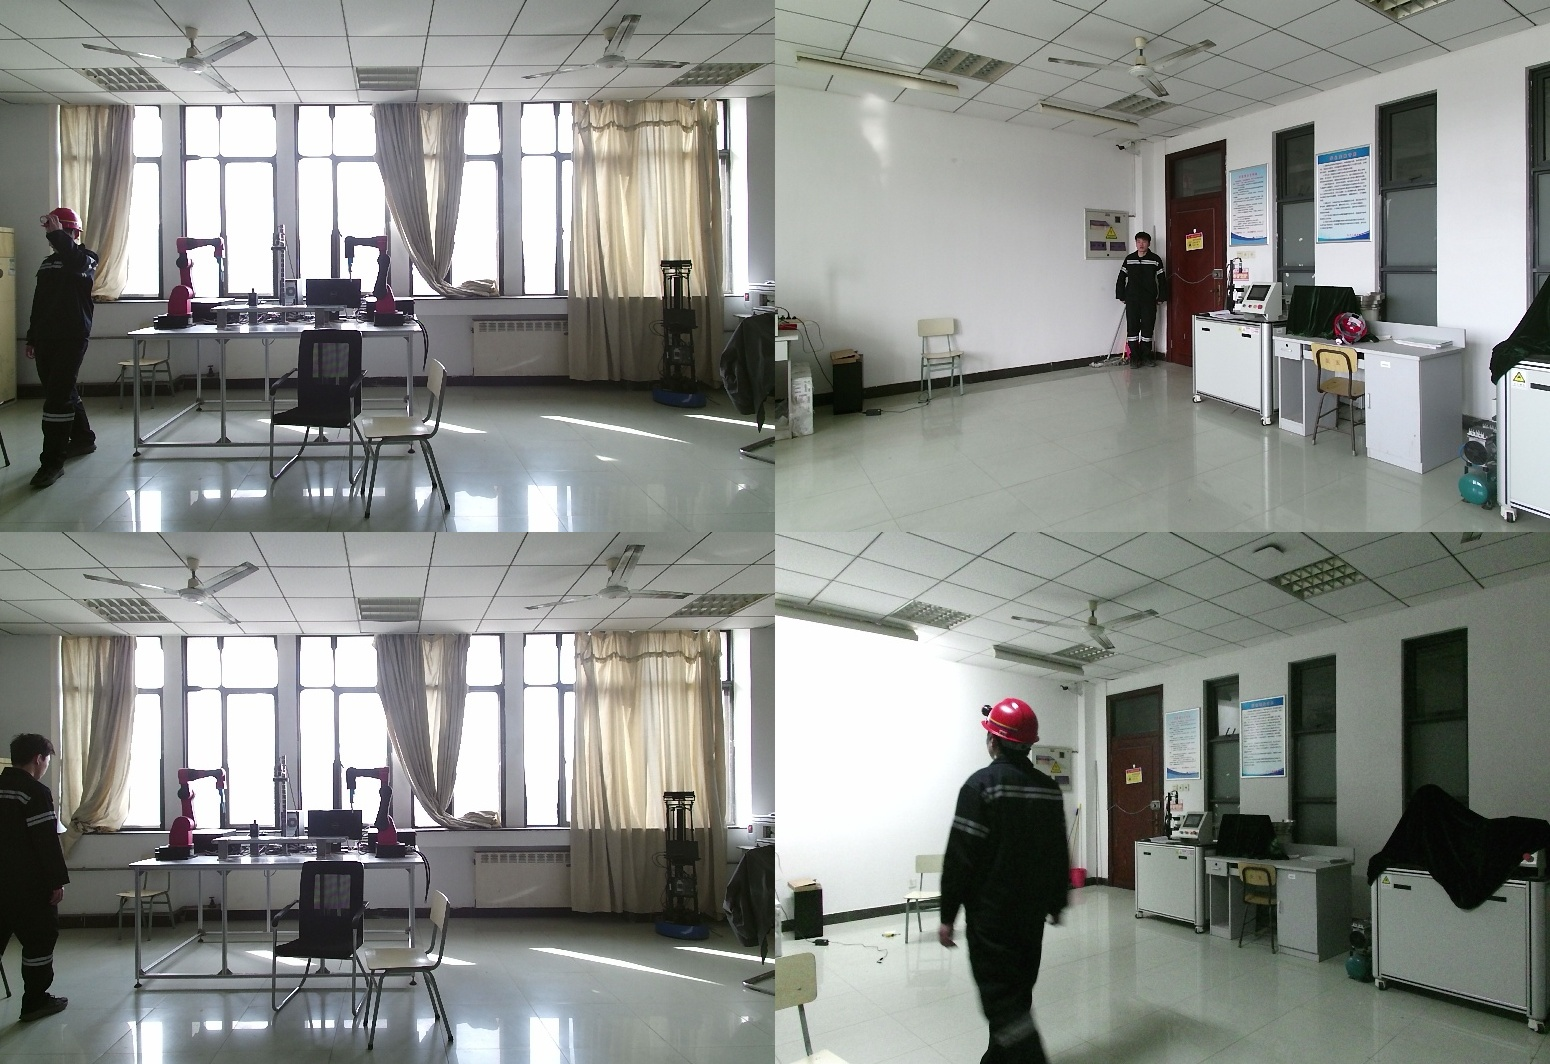person: (939, 699, 1080, 1064), (2, 734, 75, 1030), (25, 210, 101, 489), (1118, 233, 1171, 370)
